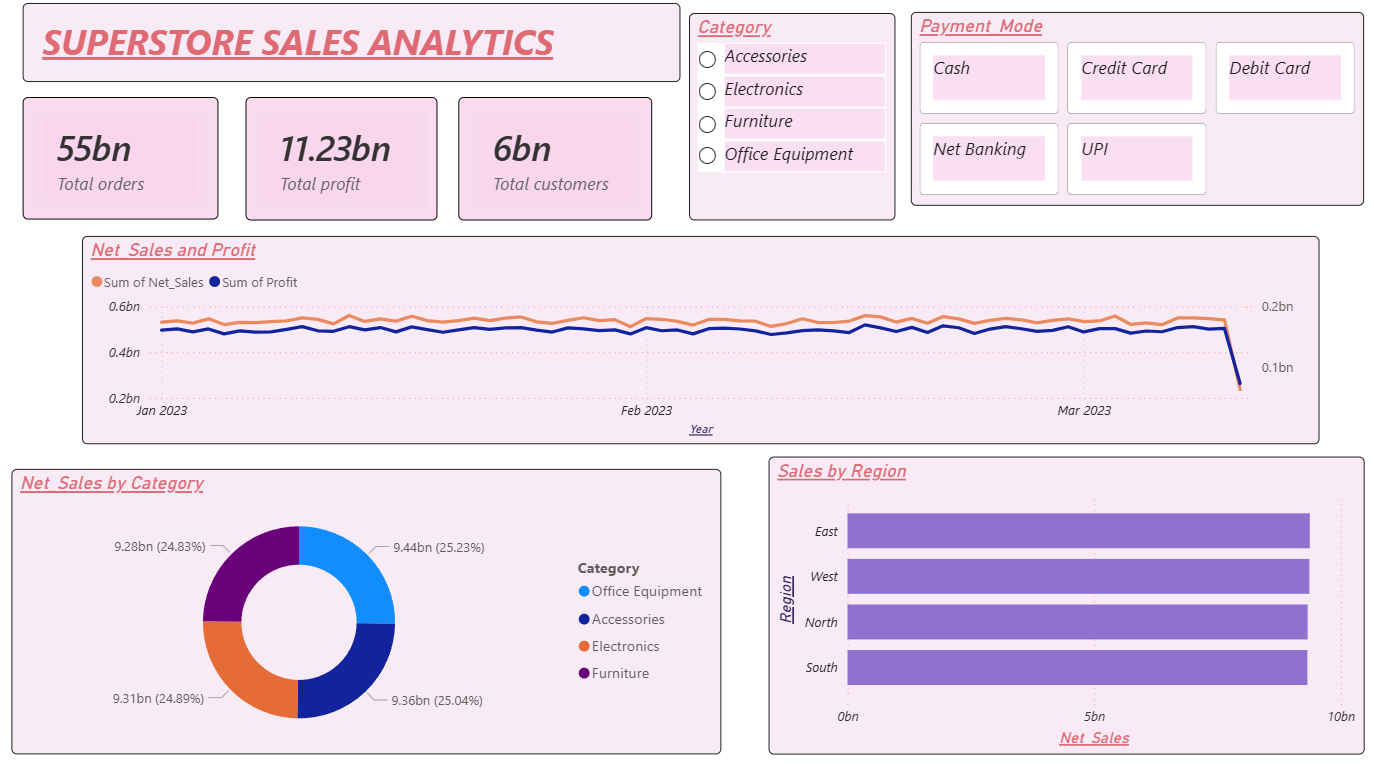

What the dashboard file says about the page in this screenshot:
{"tool":"powerbi","page":{"name":"Page 1","canvas":[1280,720],"ordinal":0},"visuals":[{"type":"textbox","box":[22.8,8.3,608.6,73.6],"z":0},{"type":"cardVisual","fields":{"Data":["Sales_data_book.Total orders"]},"box":[22.8,95.4,181.4,113],"z":1000},{"type":"cardVisual","fields":{"Data":["Sales_data_book.Total profit"]},"box":[229.1,95.4,177.3,114],"z":2000},{"type":"cardVisual","fields":{"Data":["Sales_data_book.Total customers"]},"box":[426.1,95.4,179.4,114],"z":3000},{"type":"lineChart","title":"Net_Sales and Profit","fields":{"Y":["Sum(Sales_data_book.Net_Sales)"],"Category":["Sales_data_book.Order_Date.Variation.Date Hierarchy.Year","Sales_data_book.Order_Date.Variation.Date Hierarchy.Quarter","Sales_data_book.Order_Date.Variation.Date Hierarchy.Month","Sales_data_book.Order_Date.Variation.Date Hierarchy.Day"],"Y2":["Sum(Sales_data_book.Profit)"]},"box":[77.8,223.9,1145.6,192.8],"z":6000},{"type":"donutChart","title":"Net_Sales by Category","fields":{"Y":["Sum(Sales_data_book.Net_Sales)"],"Category":["Sales_data_book.Category"]},"box":[12.4,439.6,657.3,264.4],"z":7000},{"type":"barChart","title":"Sales by Region","fields":{"Category":["Sales_data_book.Region"],"Y":["Sum(Sales_data_book.Net_Sales)"]},"box":[713.3,428.2,551.6,275.8],"z":8000},{"type":"advancedSlicerVisual","fields":{"Values":["Sales_data_book.Payment_Mode"]},"box":[845,16.6,419.9,179.4],"z":9000},{"type":"listSlicer","fields":{"Values":["Sales_data_book.Category"]},"box":[639.7,17.6,190.8,191.8],"z":10000}]}

Visuals, with their boxes in screenshot pixels (x1, y1, x2, y2), scaled from the page's 1280x720 canvas onto the 1374x764 screenshot:
textbox: select_region(24, 9, 678, 87)
cardVisual - Sales_data_book.Total orders: select_region(24, 101, 219, 221)
cardVisual - Sales_data_book.Total profit: select_region(246, 101, 436, 222)
cardVisual - Sales_data_book.Total customers: select_region(457, 101, 650, 222)
"Net_Sales and Profit" lineChart: select_region(84, 238, 1313, 442)
"Net_Sales by Category" donutChart: select_region(13, 466, 719, 747)
"Sales by Region" barChart: select_region(766, 454, 1358, 747)
advancedSlicerVisual - Sales_data_book.Payment_Mode: select_region(907, 18, 1358, 208)
listSlicer - Sales_data_book.Category: select_region(687, 19, 891, 222)
